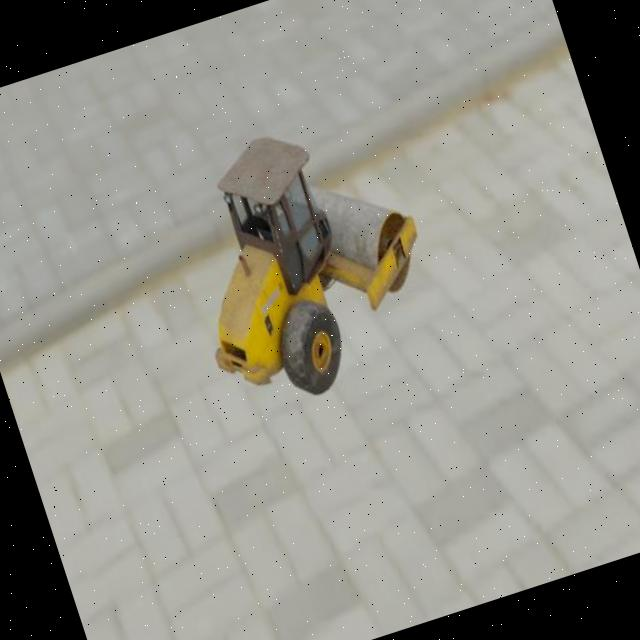Roller: (153, 98, 457, 423)
